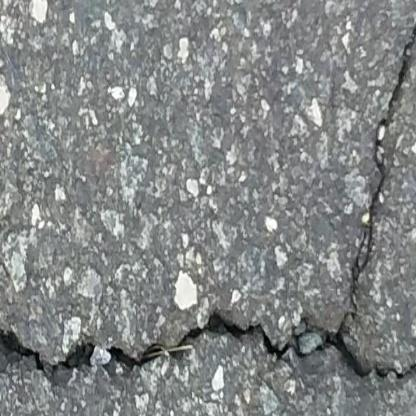Cracks: (0, 288, 416, 386), (354, 0, 416, 287)
